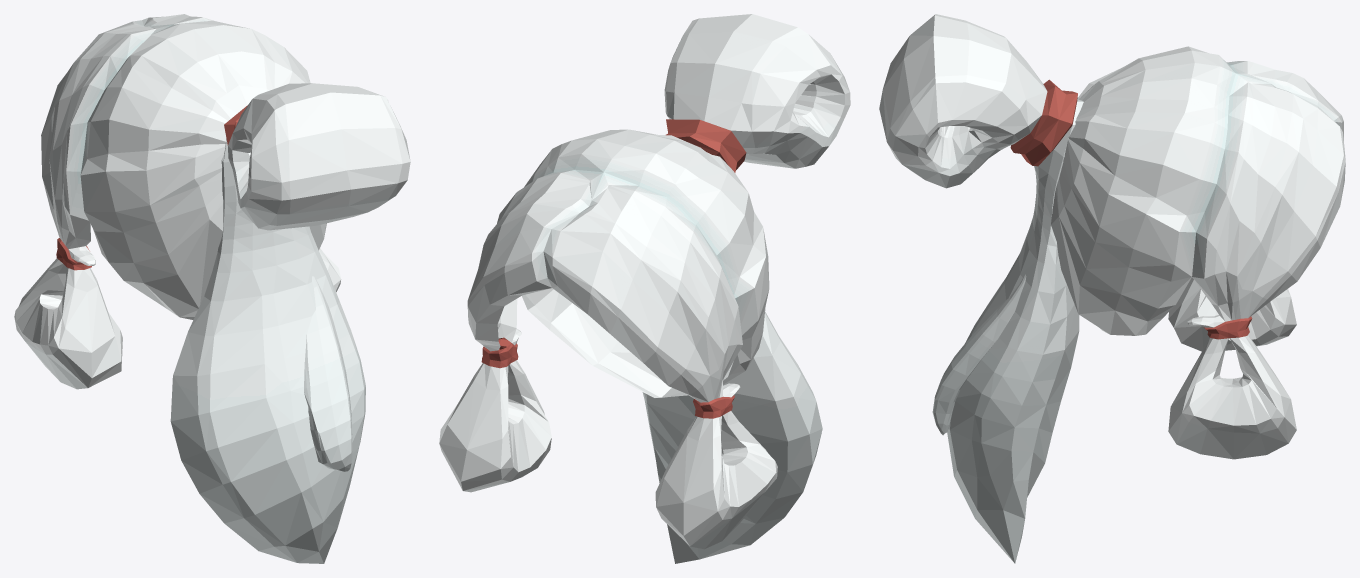
File: CharSkyKid_Hair_AP09MultiBuns_01.glb
The picture shows the model from 3 angles, left to right: view 1: azimuth 30°, elevation 25°; view 2: azimuth 150°, elevation 25°; view 3: azimuth 270°, elevation 25°; orthographic projection. The views are drawn at different scales.
Visible parts, largest first — view 1: CharSkyKid_Hair_AP09MultiBuns_01; view 2: CharSkyKid_Hair_AP09MultiBuns_01; view 3: CharSkyKid_Hair_AP09MultiBuns_01.
Boxes of the visible parts, x1,y1,x2,y2 form: CharSkyKid_Hair_AP09MultiBuns_01: (14,14,410,563); CharSkyKid_Hair_AP09MultiBuns_01: (439,14,850,563); CharSkyKid_Hair_AP09MultiBuns_01: (879,14,1345,563).
Size of the model in its own units: 3.04 by 5.07 by 4.19.
Materials: 1 (1 with a texture image).
